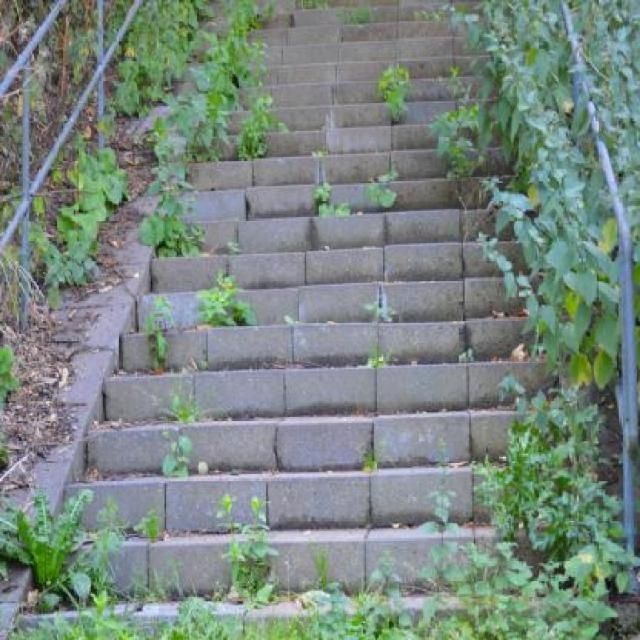stair: (5, 0, 640, 638)
